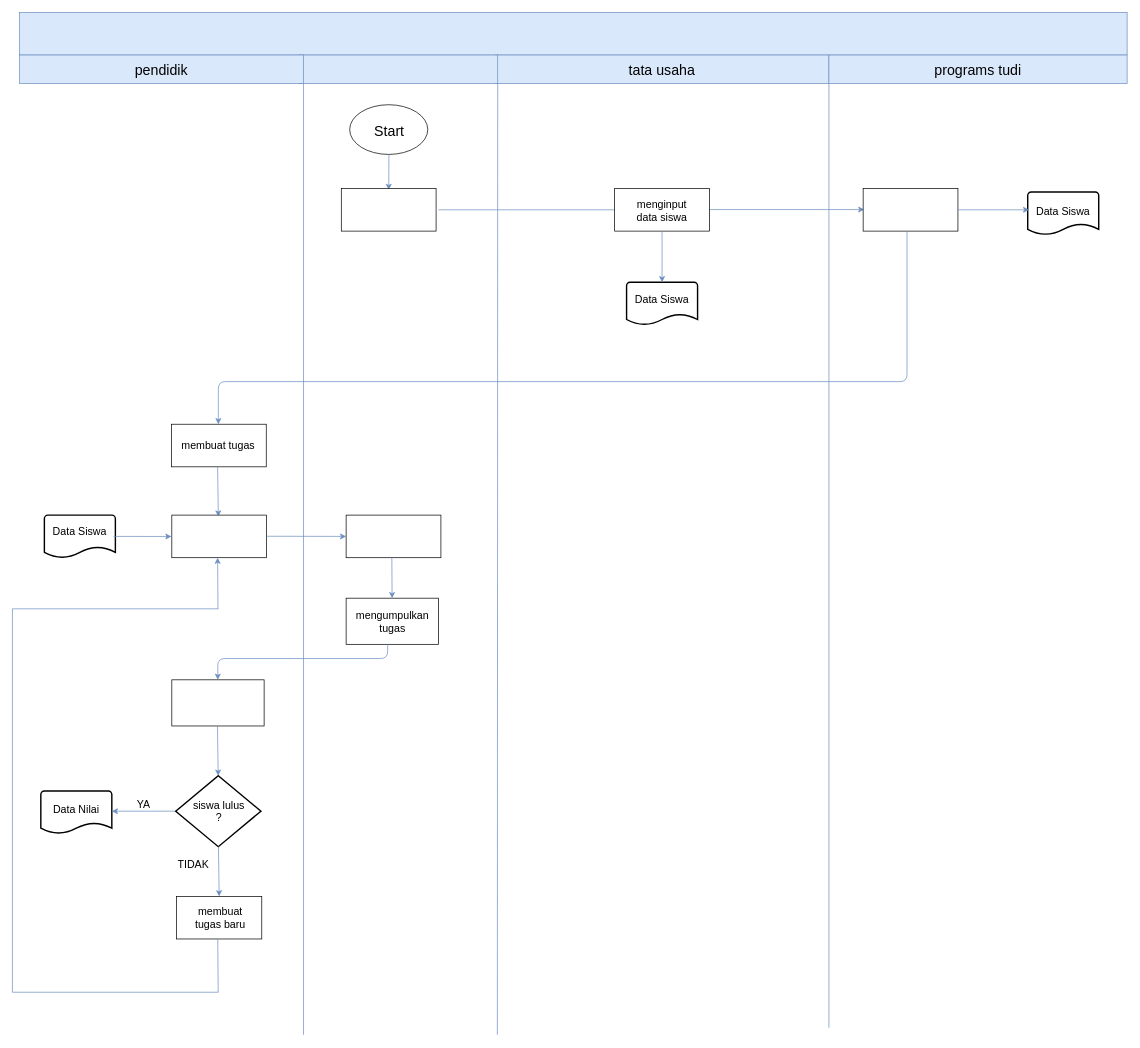
This 1140x1048 diagram has some shape labels left out. Each missing label, with the centre of its shape:
Flowchart Berjalan: the point at 573,33
memberikan tugas: the point at 219,536
membuat materi: the point at 910,209
mengerjakan tugas: the point at 393,536
mengumpulkan data pribadi: the point at 388,209
menilai tugas: the point at 217,702
peserta didik: the point at 398,68
